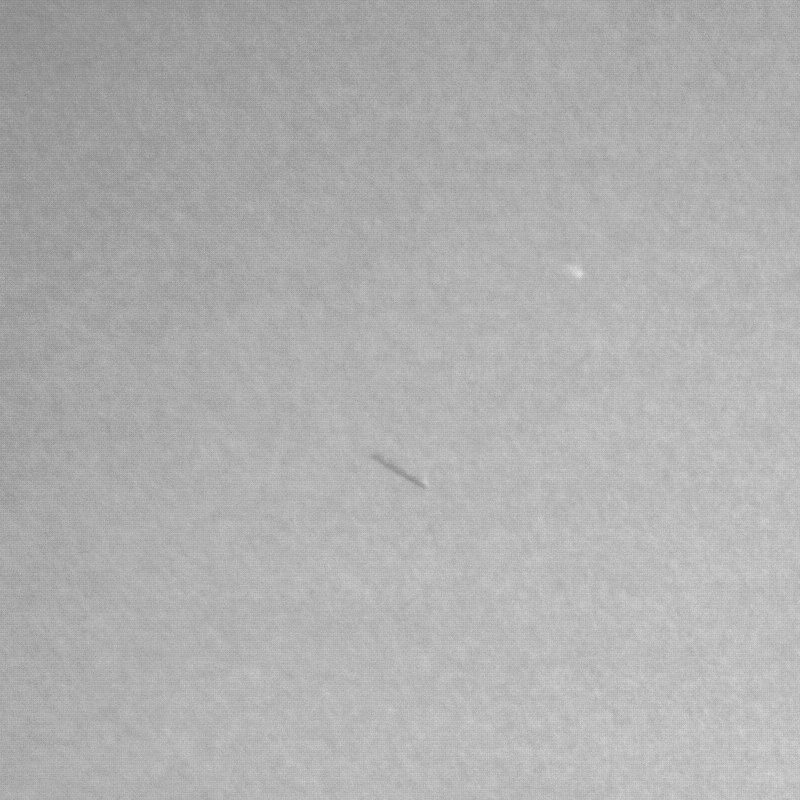defect: (376, 455, 435, 495)
